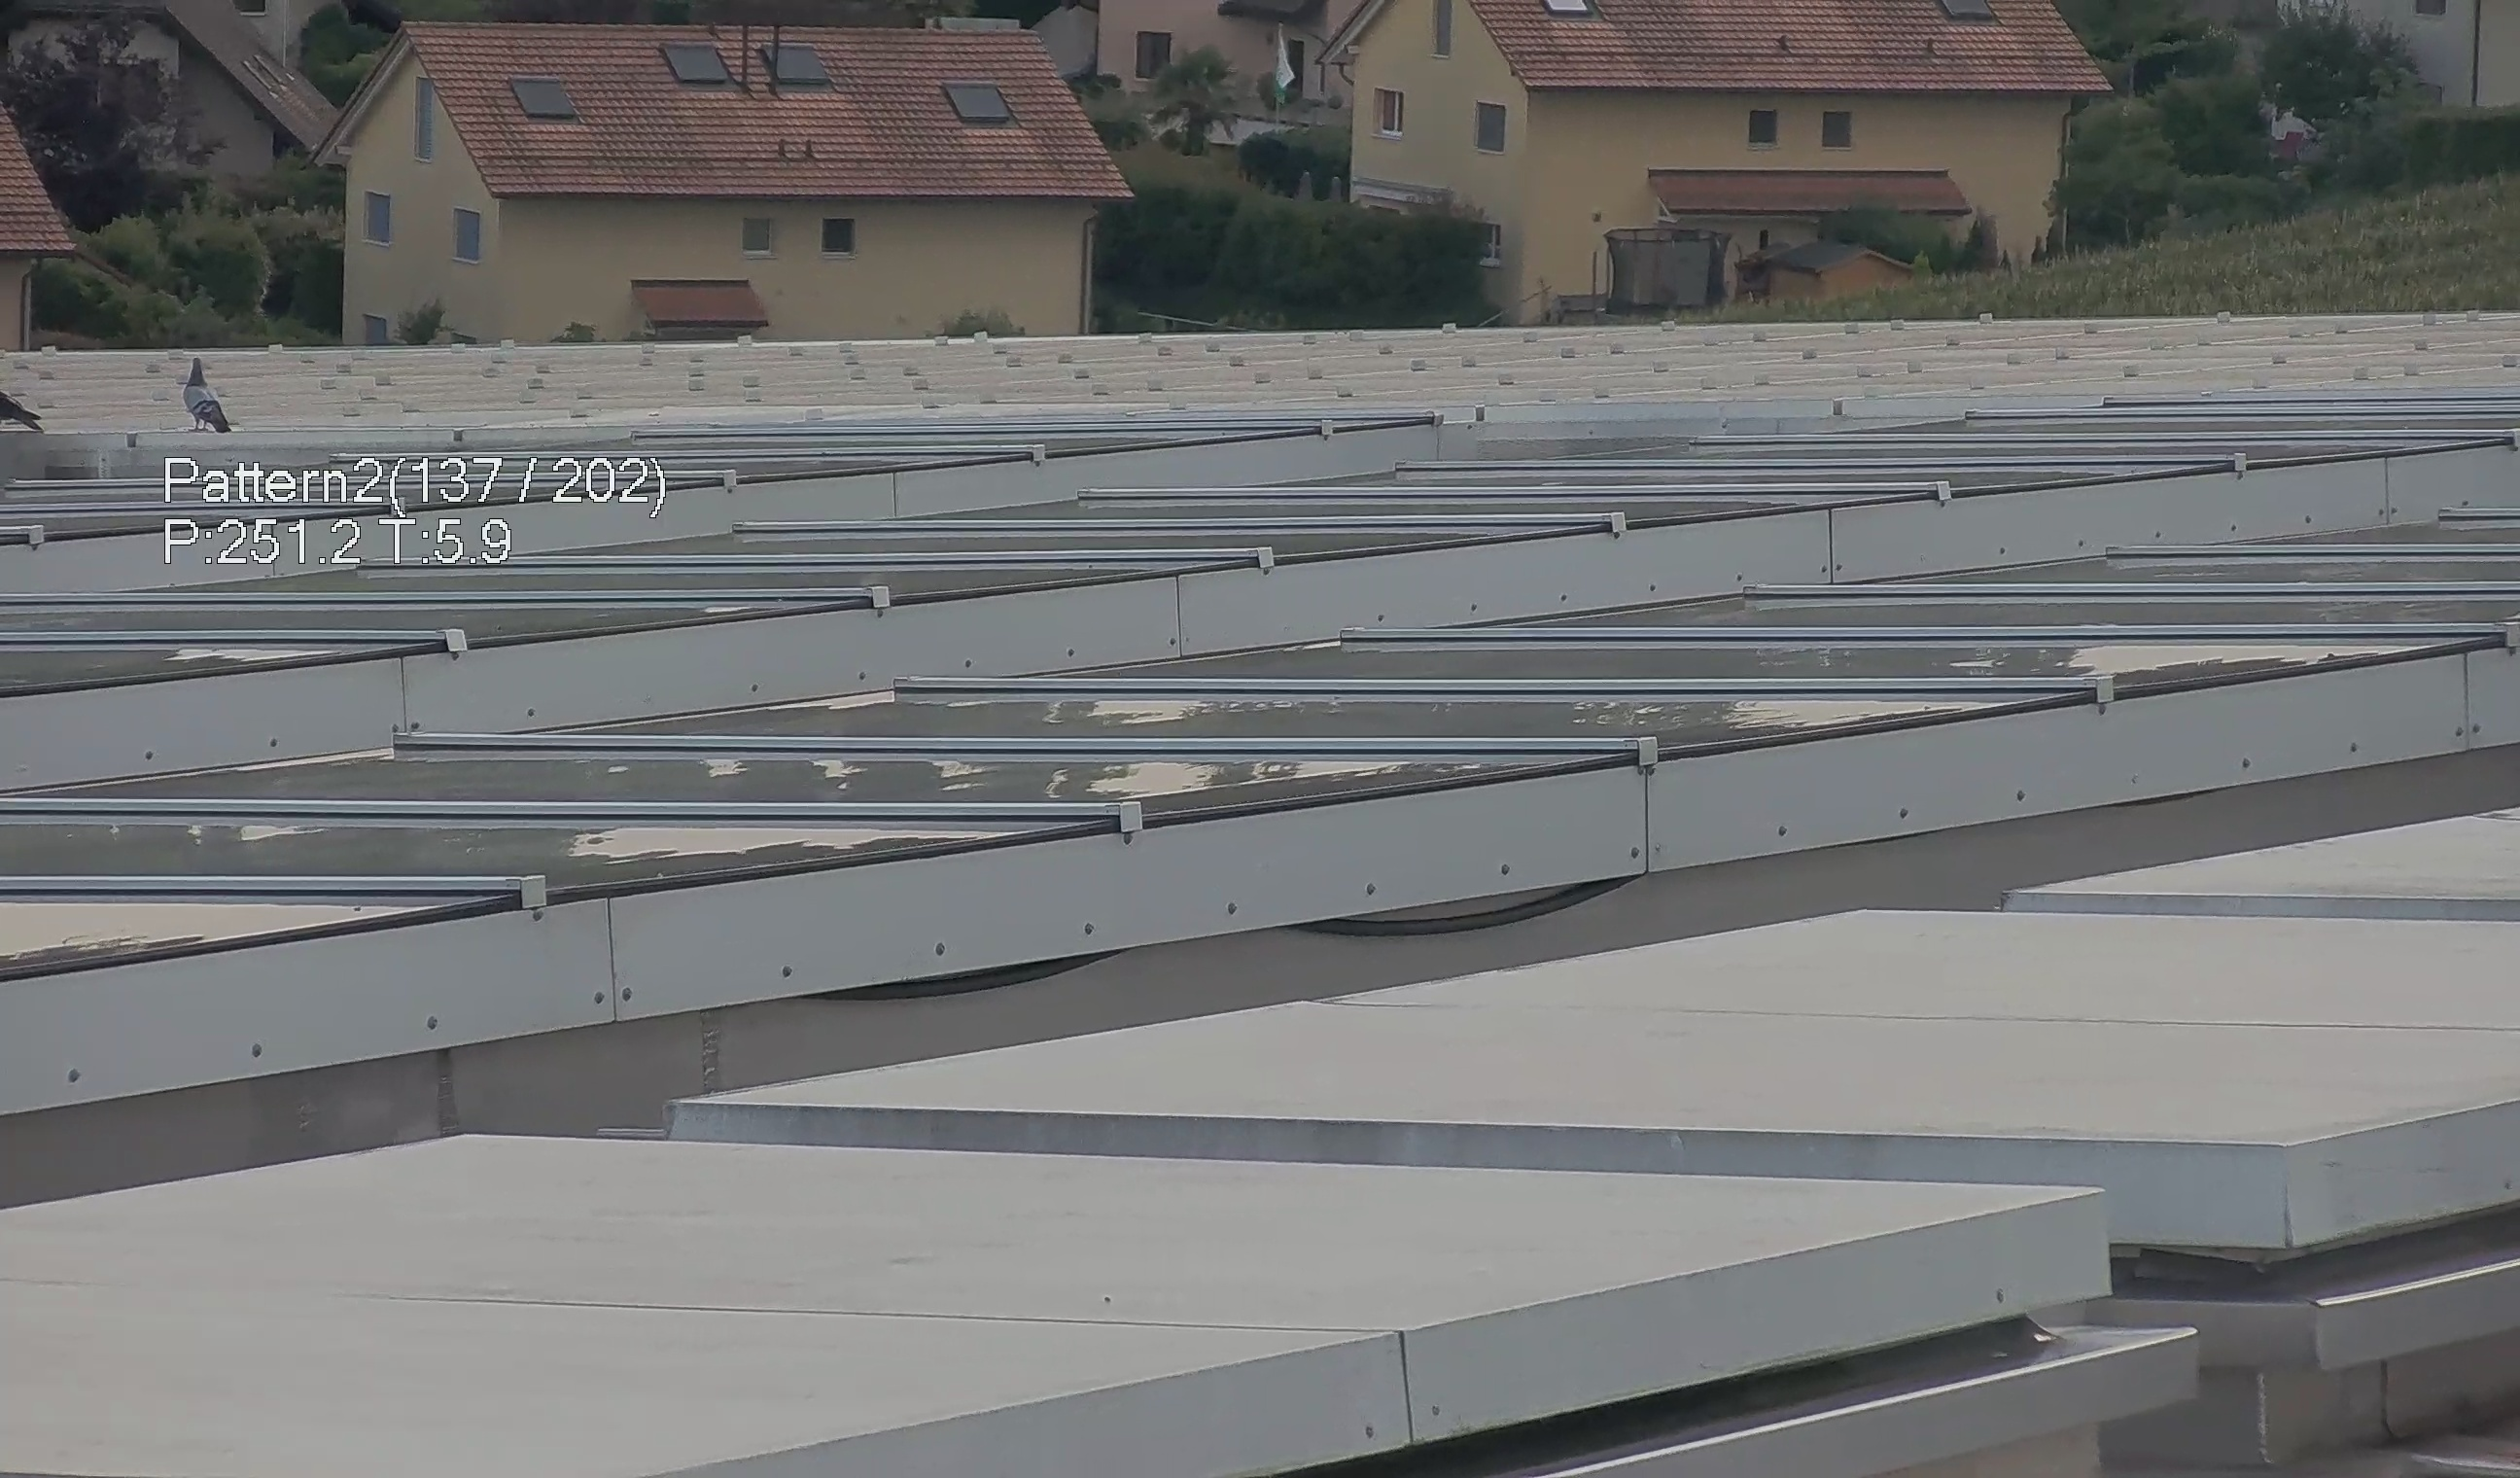Pigeon: (172, 352, 250, 433), (2, 382, 47, 436)
